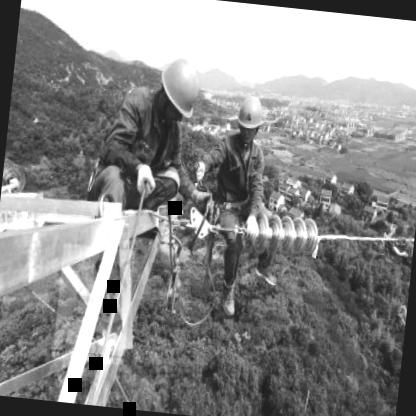helmet: (150, 48, 207, 134), (231, 89, 268, 147)
